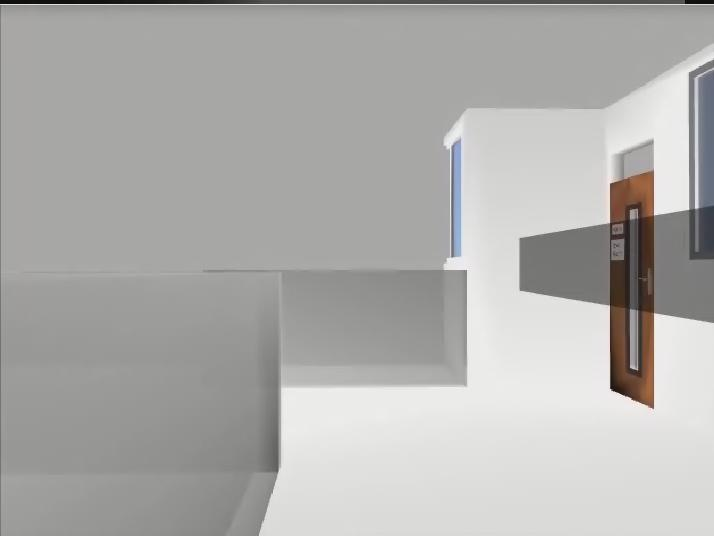door: (610, 172, 653, 410)
